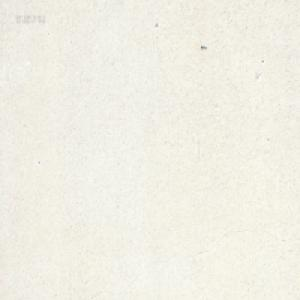Nail: (200, 44, 207, 49)
